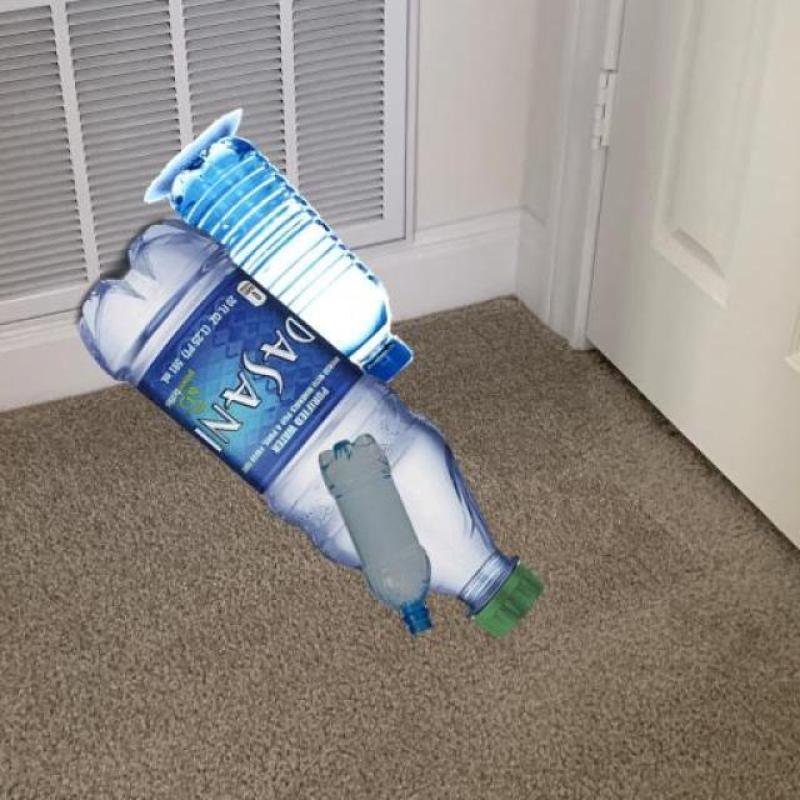botella: (69, 219, 542, 633), (169, 137, 413, 387), (318, 432, 434, 638)
